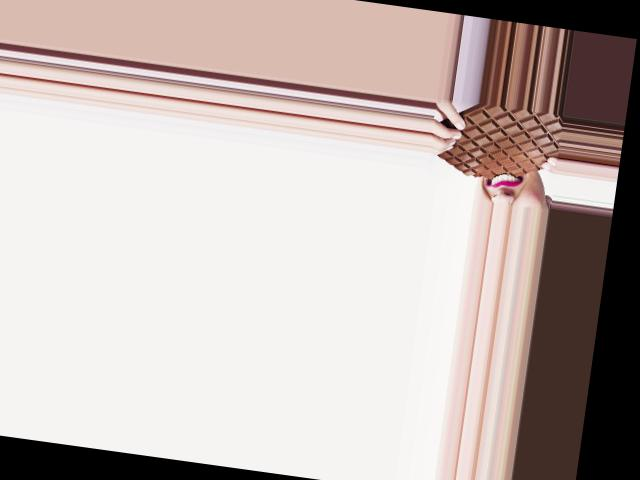chocolate: (425, 97, 562, 190)
